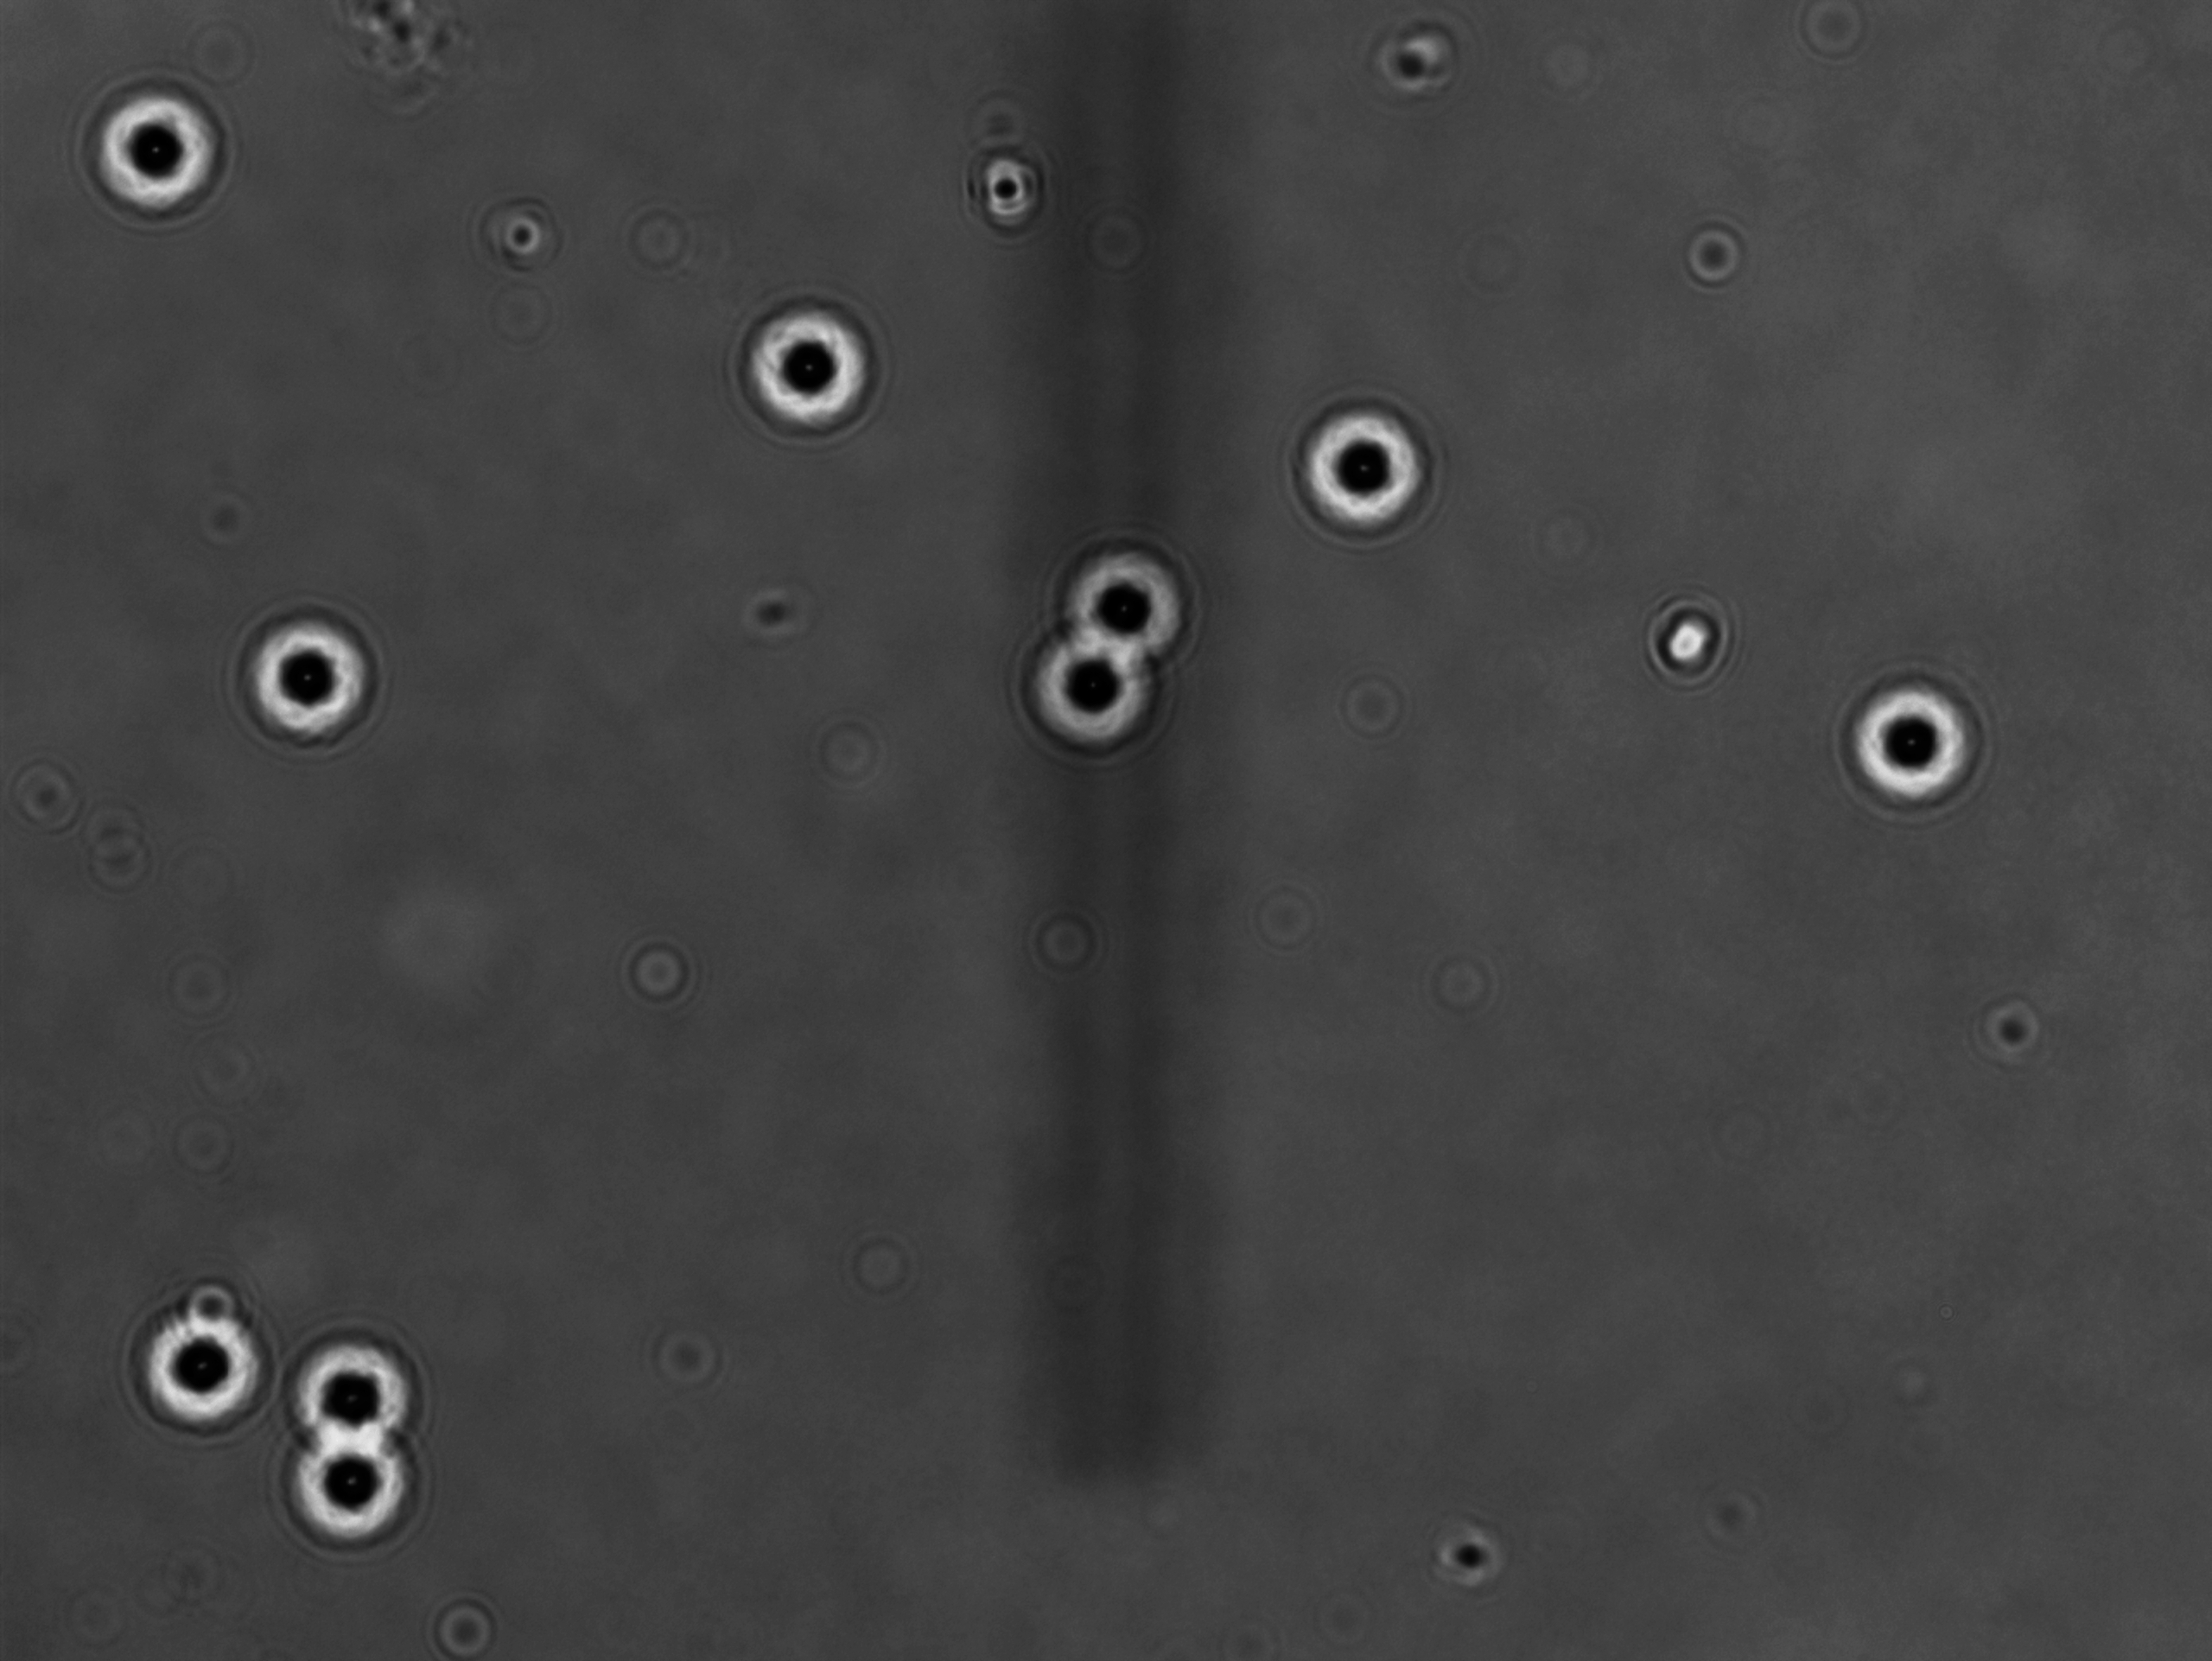depth:-20: (1287, 373, 1455, 553), (229, 593, 399, 748), (1835, 654, 1996, 818), (1003, 611, 1158, 764), (77, 82, 234, 234), (733, 293, 883, 448), (126, 1288, 276, 1439), (269, 1418, 438, 1553), (281, 1309, 433, 1457), (1043, 534, 1198, 668)
